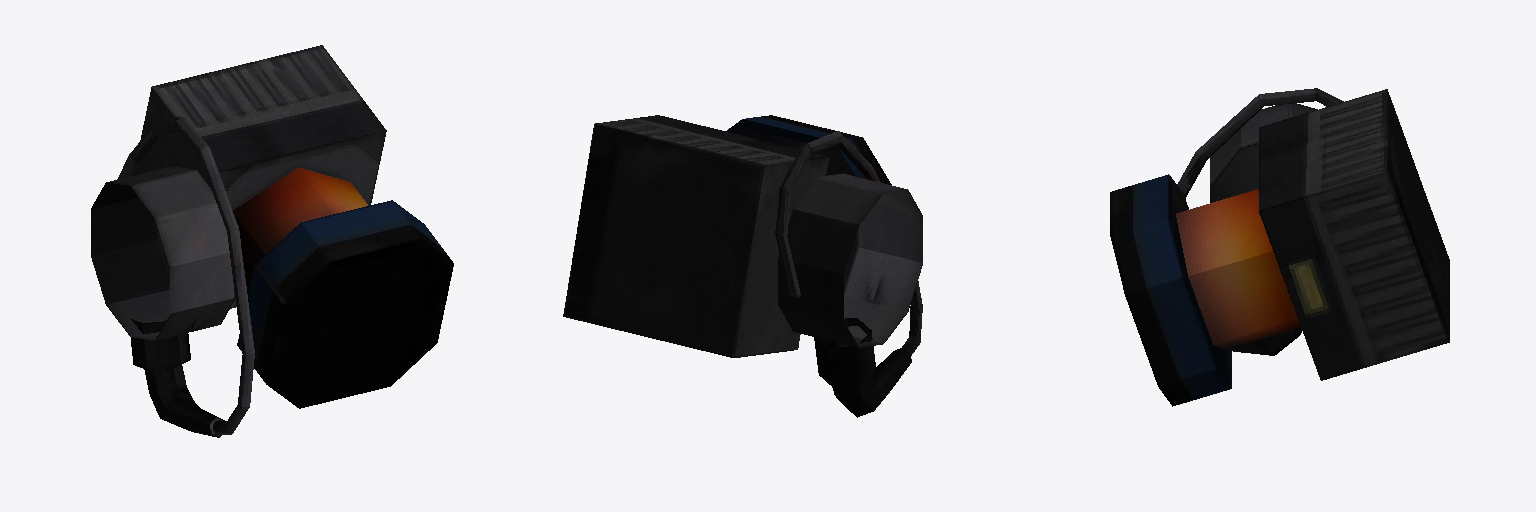
3 views of the same model, side by side, from view 1: azimuth 30°, elevation 25°; view 2: azimuth 150°, elevation 25°; view 3: azimuth 270°, elevation 25° (orthographic).
Visible parts, largest first — view 1: head_camera_head002Mesh; view 2: head_camera_head002Mesh; view 3: head_camera_head002Mesh.
Part boxes in pixels (x1,y1,x2,y2): head_camera_head002Mesh: (91, 45, 453, 437); head_camera_head002Mesh: (563, 115, 922, 417); head_camera_head002Mesh: (1110, 88, 1449, 406).
Bounding box in the file's own units: 0.083 × 0.0936 × 0.101.
Materials: 1 (1 with a texture image).